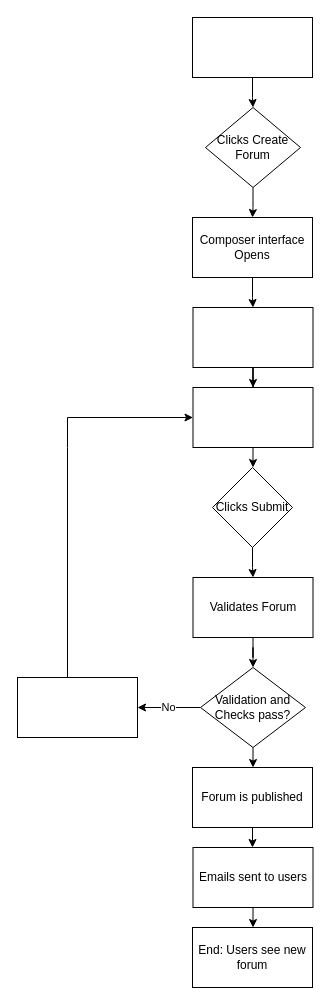
Some shapes in this 331 by 1005 pixel diagram are drawn without their labels. The shapes that lost their labels are listed below. From the top down, each one's box as (x1, y1, x2, y2) in pixels, then its label:
(192, 16, 312, 78): Start: Admin Logs in
(192, 306, 313, 368): Admin Defines Forum
(192, 386, 313, 448): Admin adds content: Titel, body, attachments, poll
(16, 676, 138, 738): Show Error message
